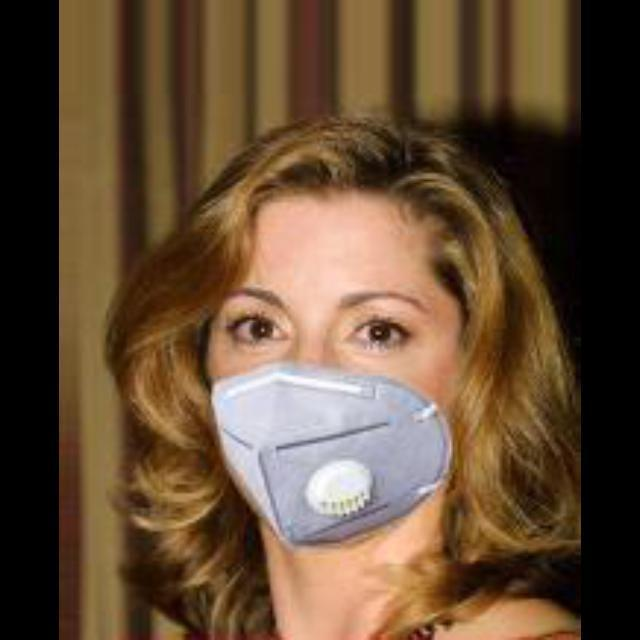1_mascarilla: (205, 362, 450, 554)
